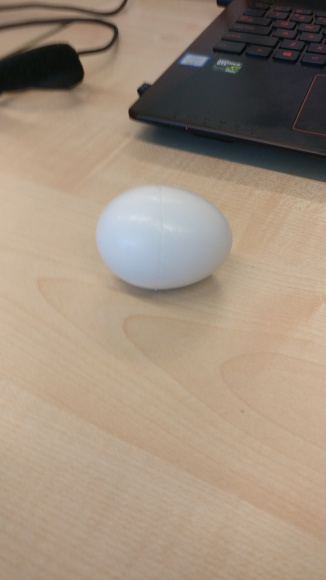egg: (96, 181, 231, 295)
